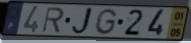2: (121, 9, 145, 37)
4: (147, 8, 167, 39), (22, 5, 40, 35)
G: (93, 8, 119, 36)
J: (70, 6, 95, 36)
R: (41, 6, 66, 34)
